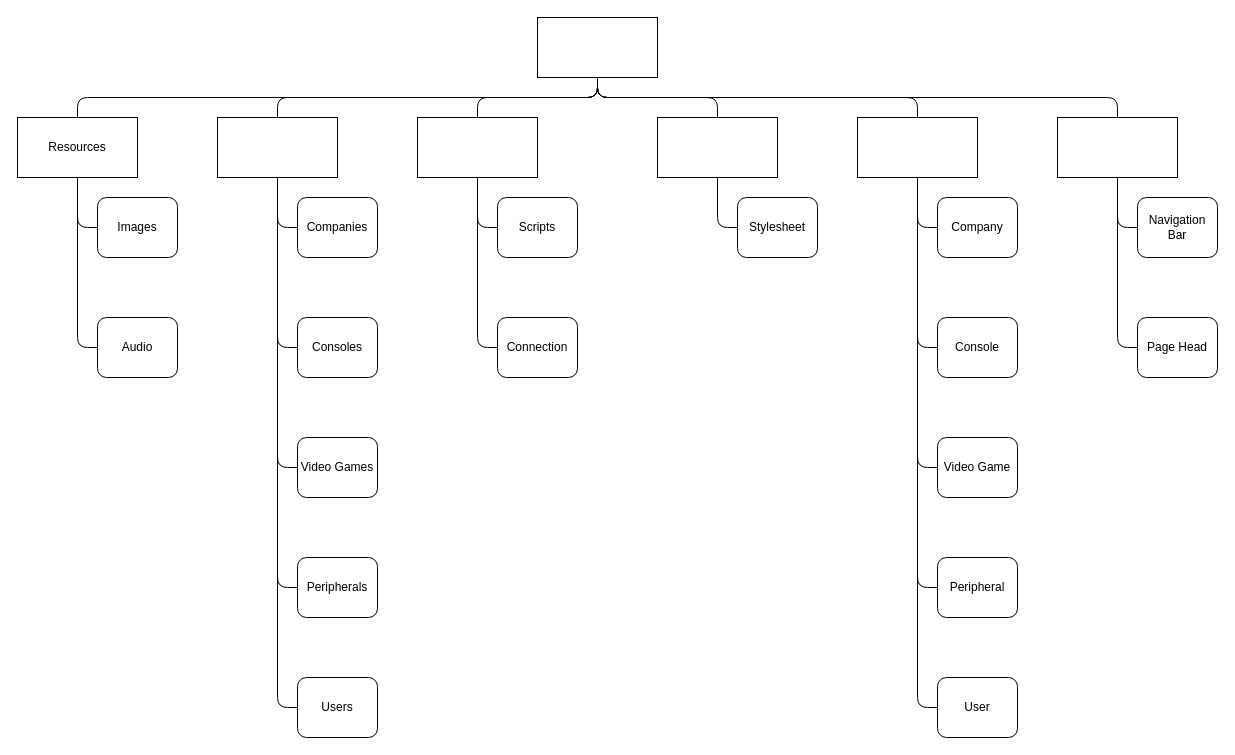
Some shapes in this 1235 by 755 pixel diagram are drawn without their labels. Each missing label, with the centre of its shape:
"CSS" belongs at point (717, 147).
"JavaScript" belongs at point (477, 147).
"Models" belongs at point (917, 147).
"Pages" belongs at point (277, 147).
"Root Folder" belongs at point (597, 47).
"Shared" belongs at point (1117, 147).
